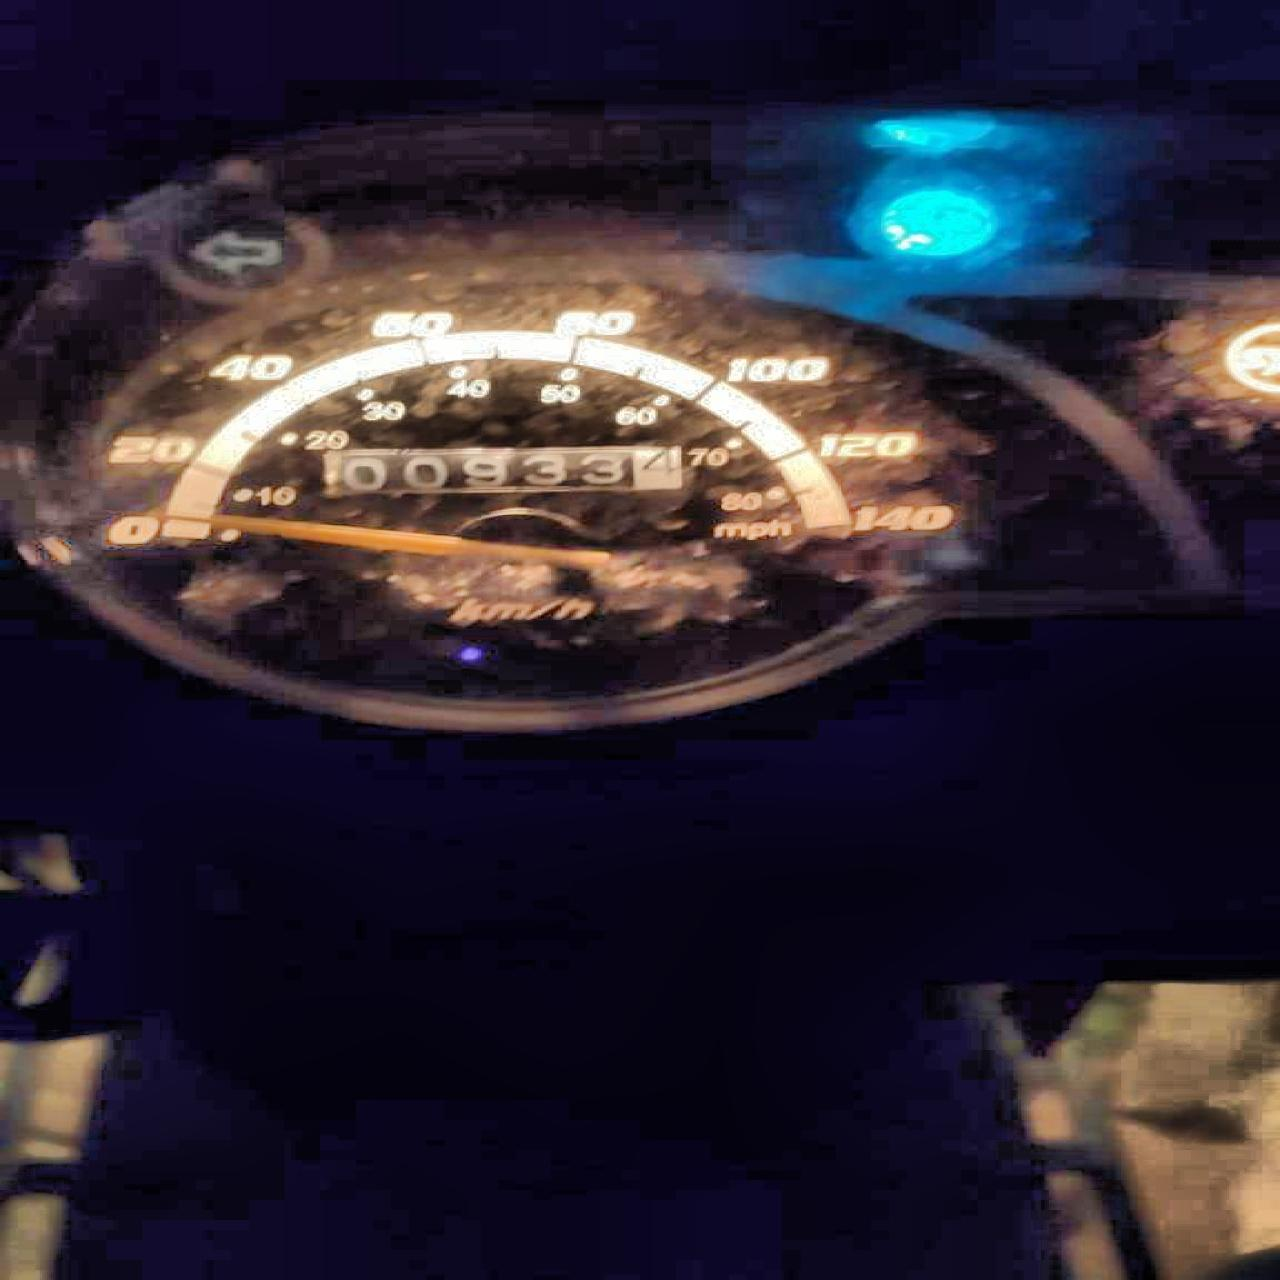0: (400, 451, 449, 490), (340, 455, 389, 490)
3: (520, 451, 567, 486), (580, 450, 622, 485)
4: (638, 445, 678, 476)
9: (462, 454, 511, 488)
odometer: (318, 445, 692, 499)
